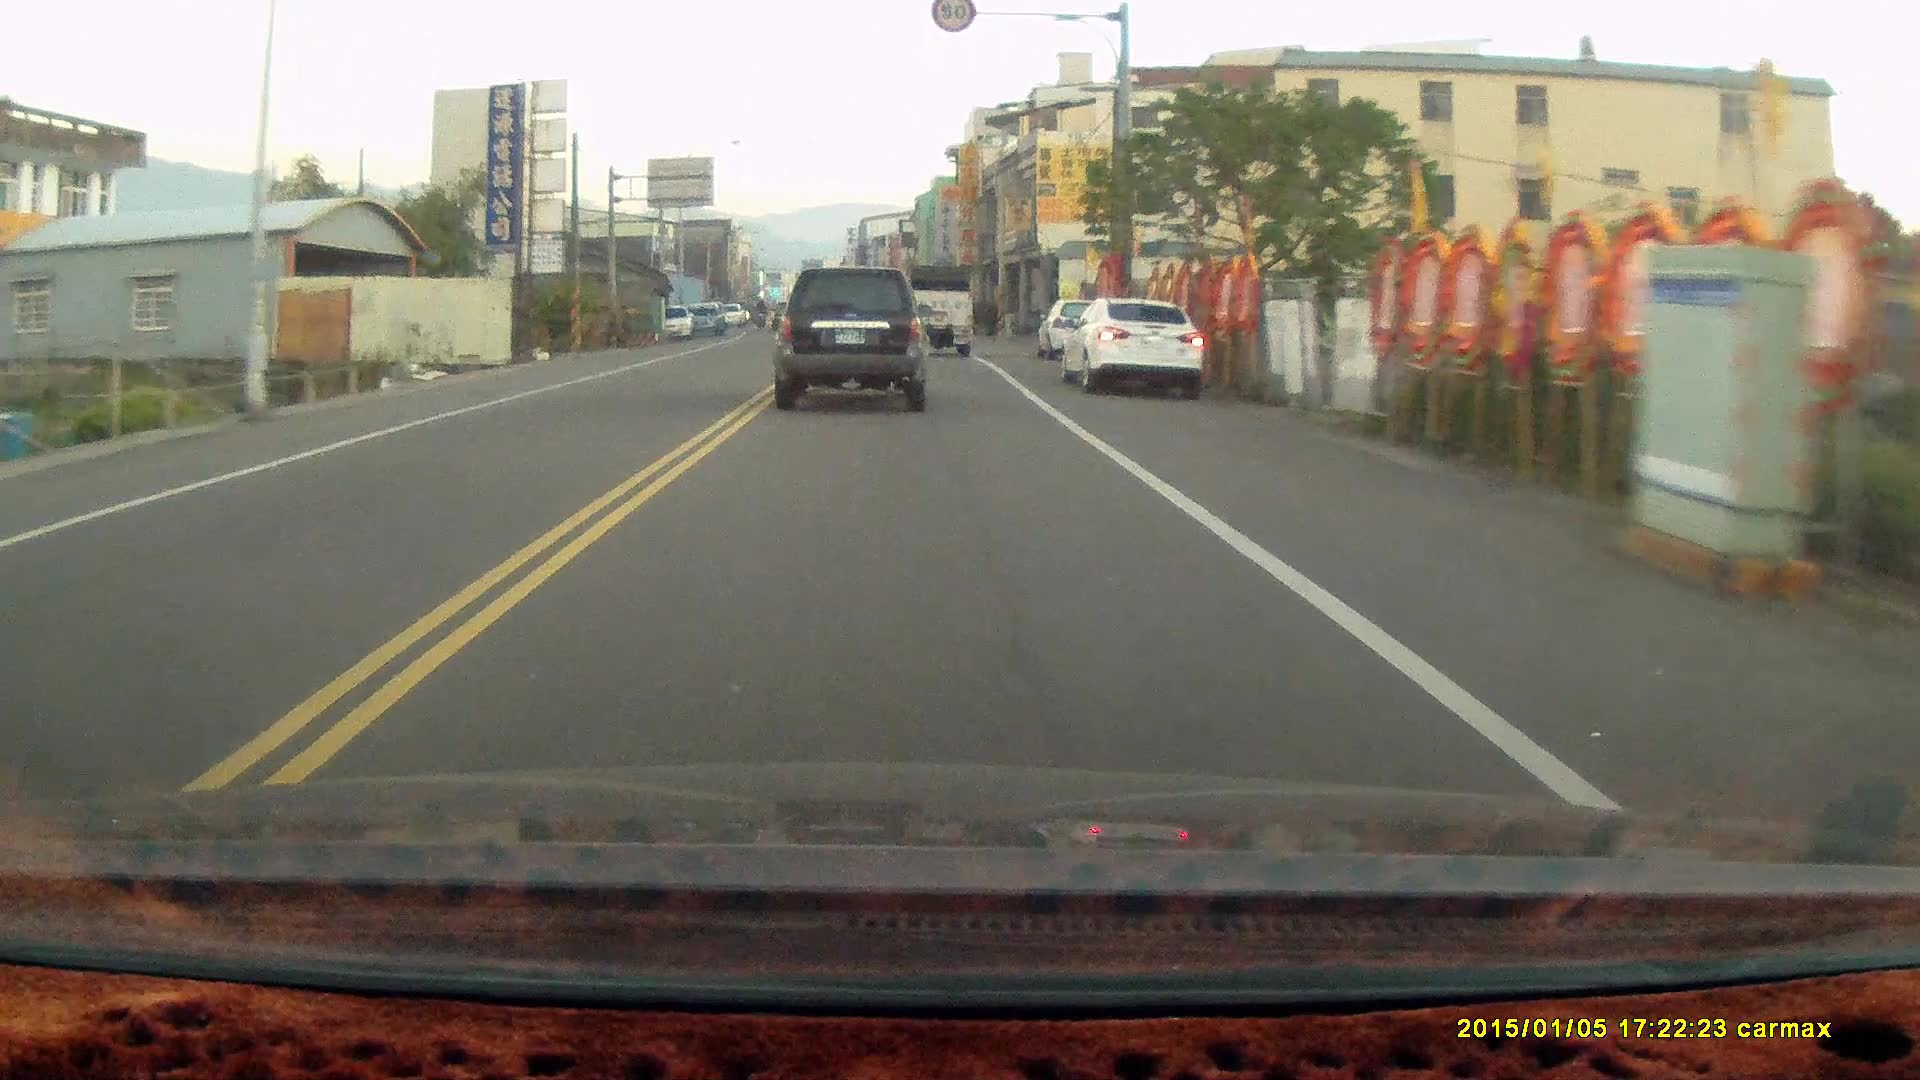vehicle: (771, 262, 934, 413), (1063, 295, 1201, 398), (905, 262, 978, 363)
